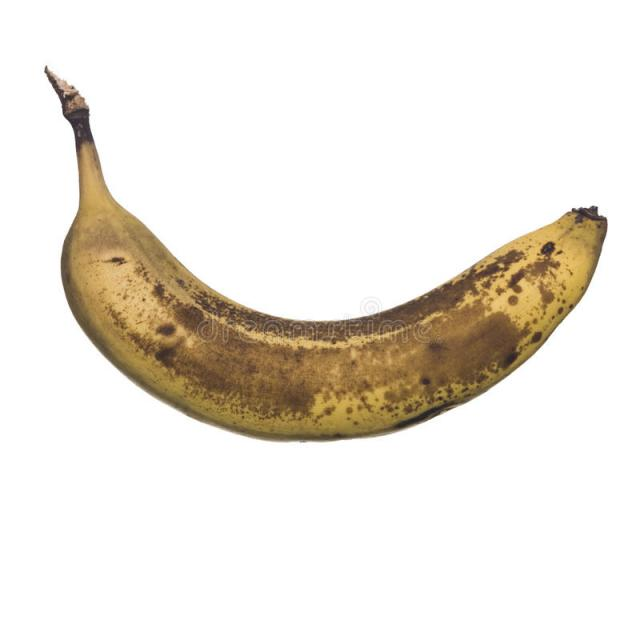Banana: (45, 68, 608, 438)
